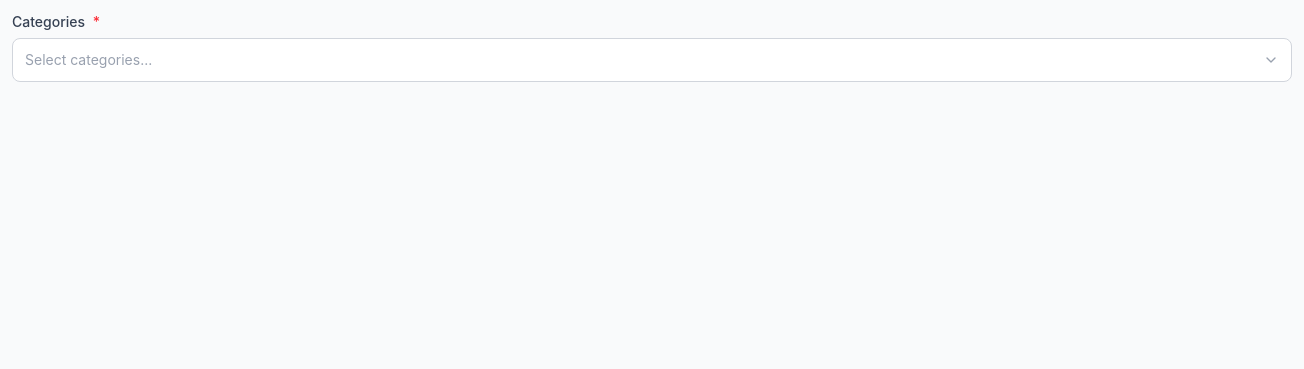
Test case: CategorySelector tree › selects every ancestor when a grandchild is selected
Click the button "Select categories...": (89, 60) [12,38,1292,82]
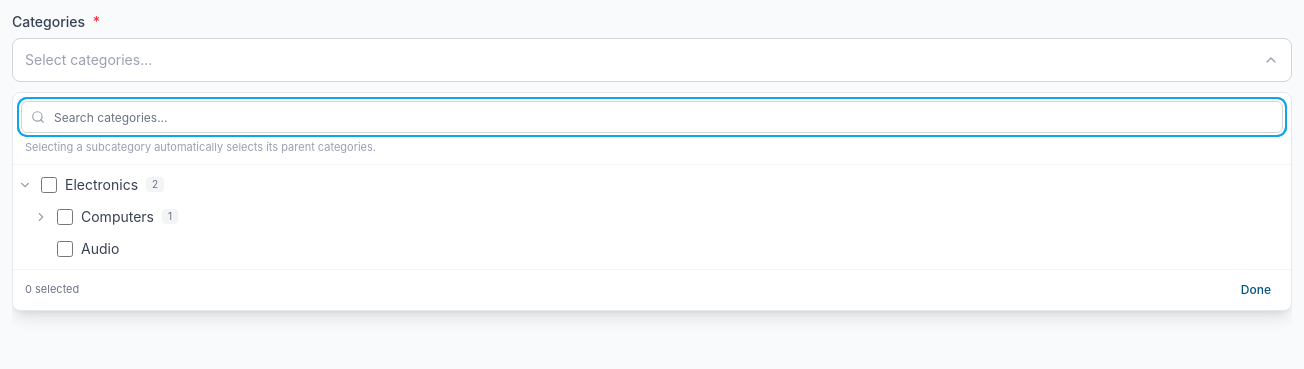
Now the checkbox labelled "Electronics 2" is shown, box [41,176,57,192]
Click the button named "Expand Computers": (41, 216) [29,204,53,228]
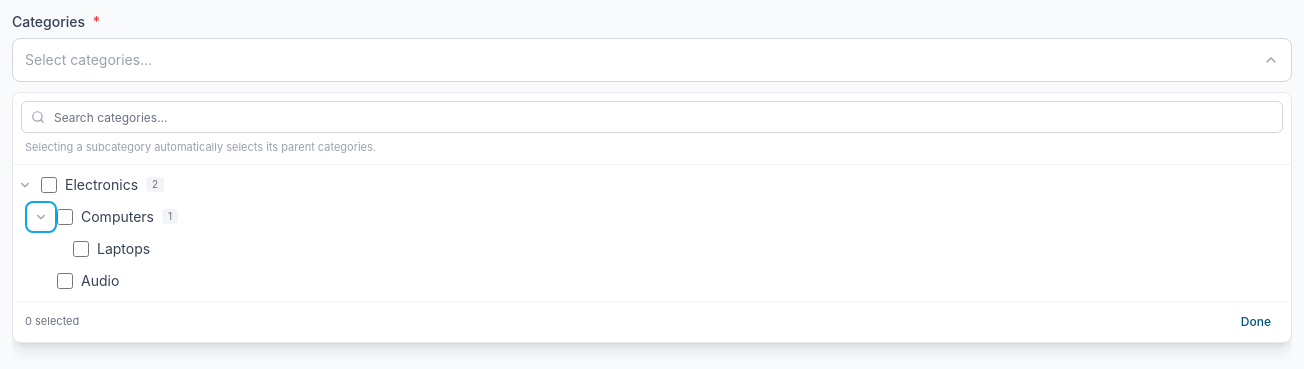
Click the checkbox labelled "Laptops": (81, 248) [73,240,89,256]
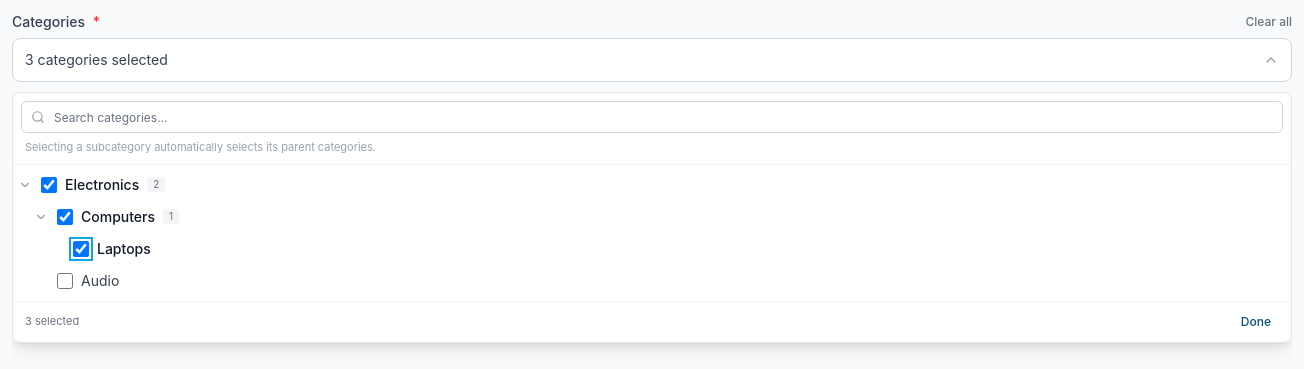
Now the checkbox labelled "Laptops" is checked, box [73,240,89,256]
Now the checkbox labelled "Electronics 2" is checked, box [41,176,57,192]
Now the checkbox labelled "Computers 1" is checked, box [57,208,73,224]
